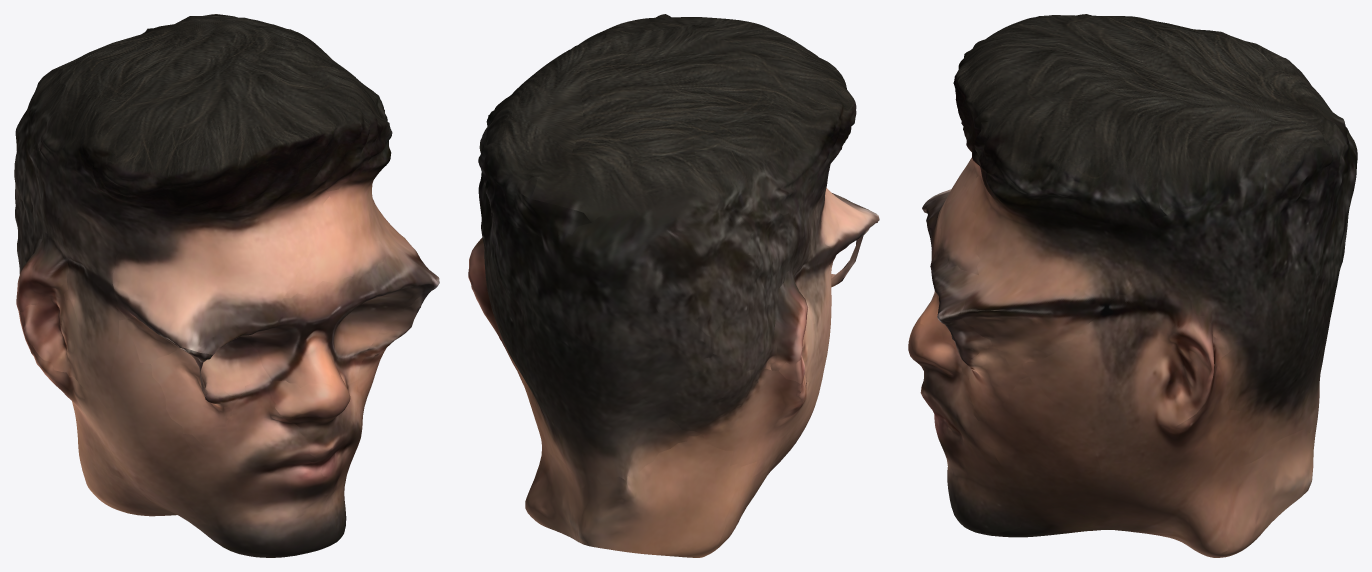
The picture shows the model from 3 angles, left to right: view 1: azimuth 30°, elevation 25°; view 2: azimuth 150°, elevation 25°; view 3: azimuth 270°, elevation 25°; orthographic projection. The views are drawn at different scales.
Visible parts, largest first — view 1: world; view 2: world; view 3: world.
Boxes of the visible parts, x1,y1,x2,y2 form: world: (14,14,439,557); world: (468,14,879,557); world: (908,14,1357,557).
Size of the model in its own units: 0.2263 by 0.3059 by 0.2589.
1 material, 1 textured.
